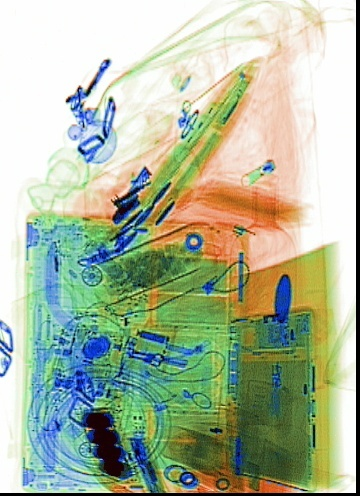powerbank: (72, 401, 133, 480)
